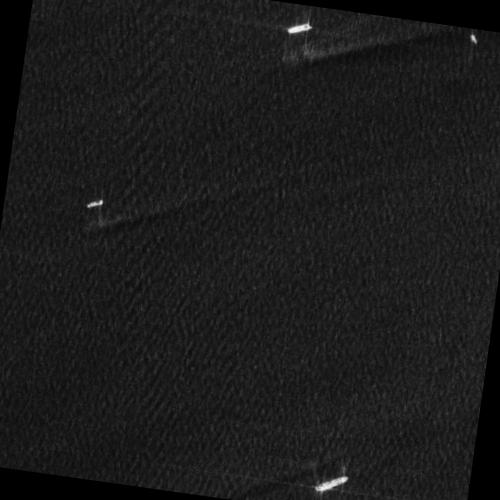ship: (313, 475, 350, 493), (287, 22, 313, 35), (85, 199, 105, 209), (470, 34, 478, 44)
